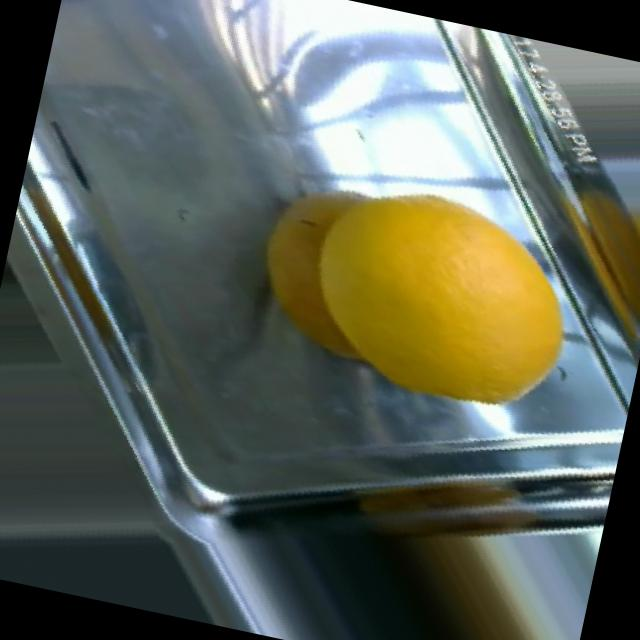Fruit: (222, 145, 448, 374)
